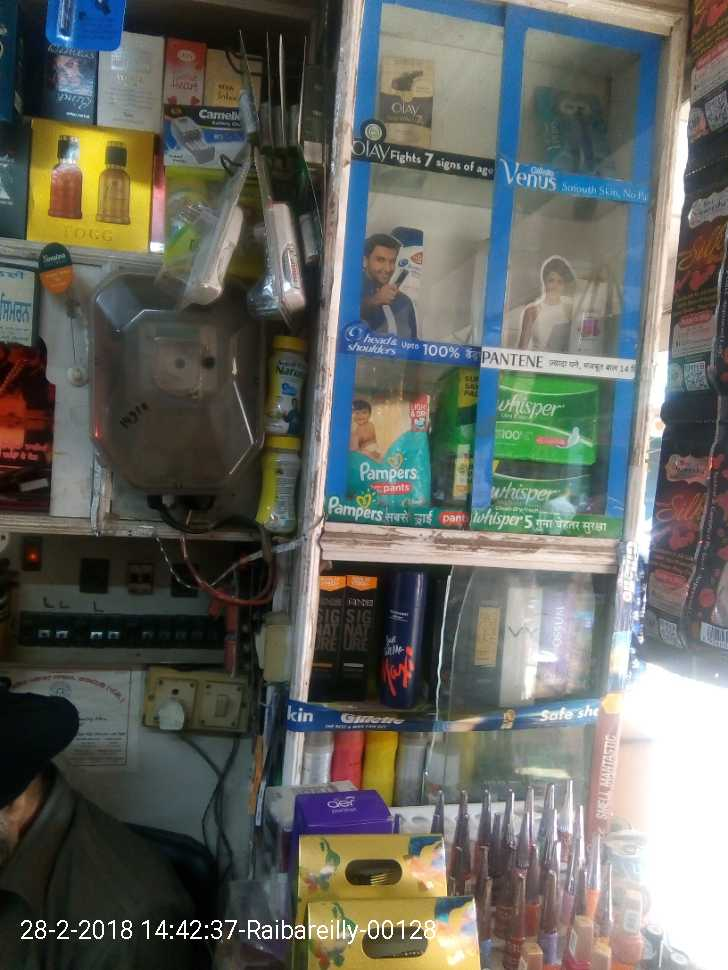venus: (540, 93, 609, 156)
